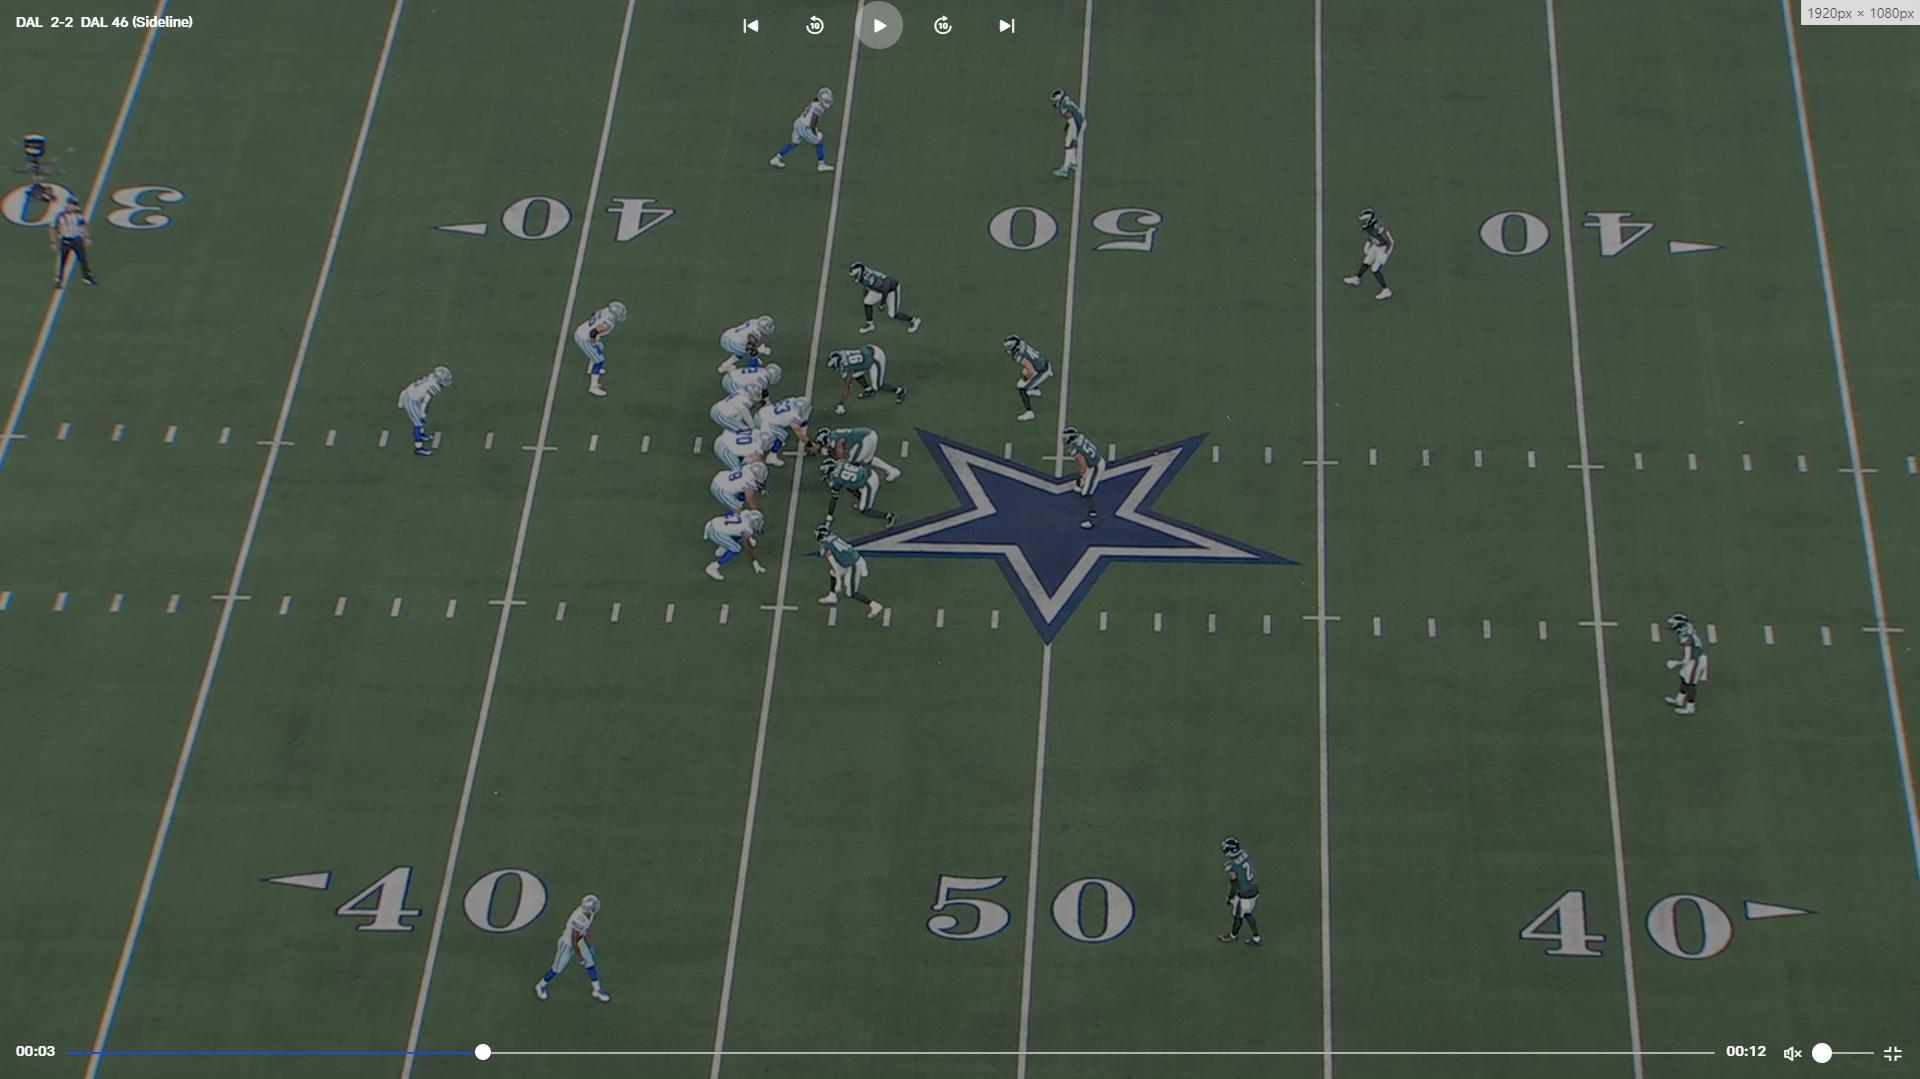player: (528, 889, 620, 1013), (813, 525, 892, 630), (1218, 831, 1274, 960), (770, 86, 846, 179), (1339, 202, 1404, 308), (846, 255, 924, 338), (1658, 608, 1714, 722), (1056, 423, 1112, 533), (395, 363, 456, 462), (824, 347, 909, 416), (811, 428, 905, 490), (577, 300, 632, 404), (817, 460, 900, 528), (705, 507, 774, 585), (1006, 330, 1057, 425), (754, 394, 816, 470), (714, 429, 779, 499), (1047, 84, 1091, 183), (710, 457, 776, 519), (717, 313, 780, 376), (712, 379, 769, 445), (721, 361, 785, 411)
ref: (52, 193, 102, 295)
